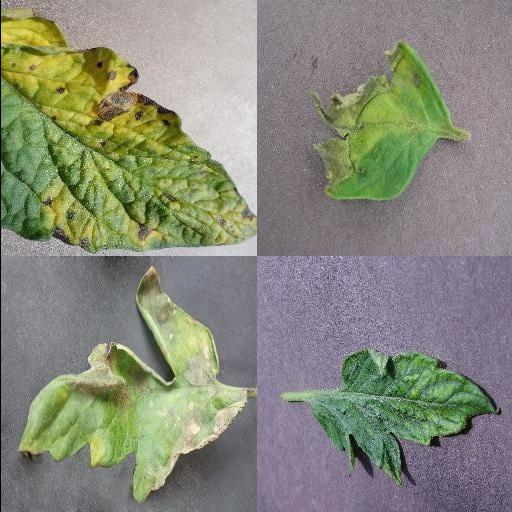Early Blight: (0, 14, 256, 252)
Late Blight: (14, 264, 246, 504), (309, 40, 457, 202)
Mosaic Virus: (308, 347, 502, 485)
